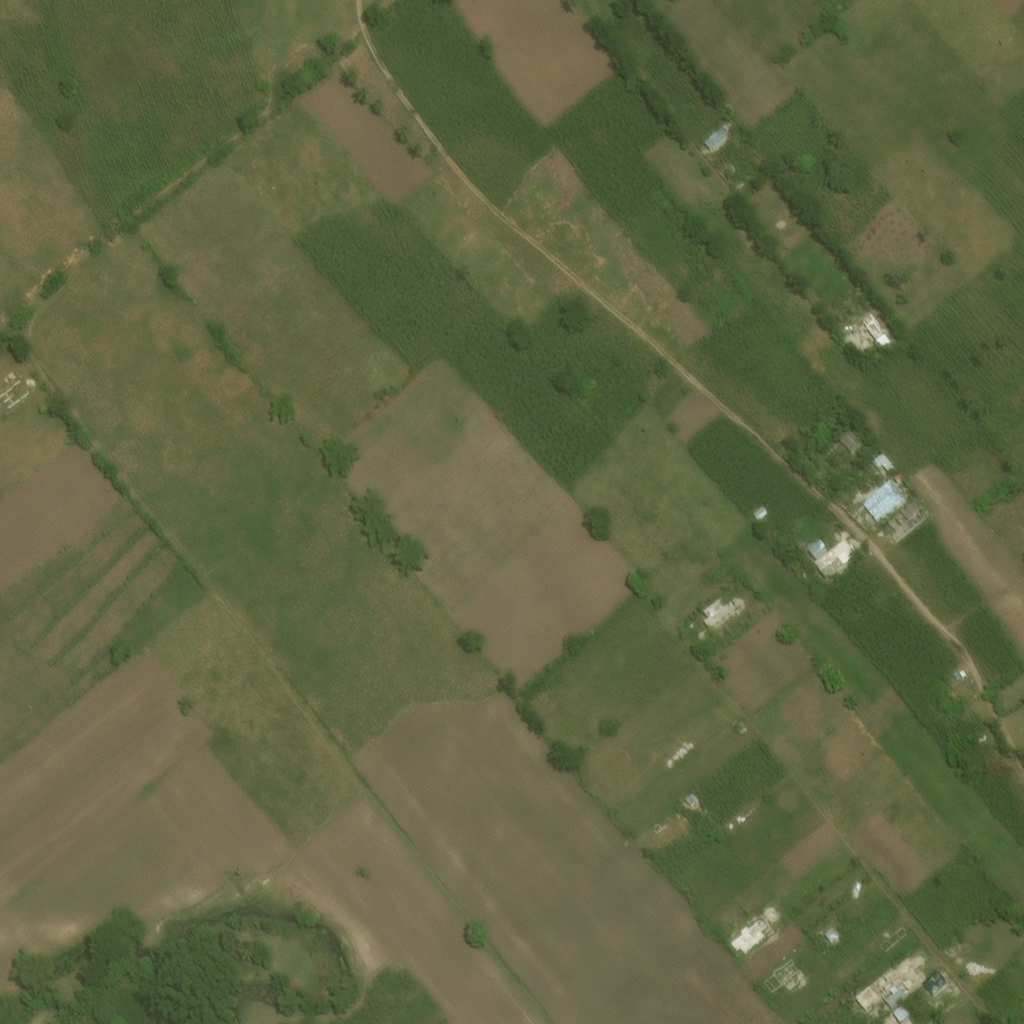major_damage: (901, 502, 925, 525)
minor_damage: (858, 481, 909, 536), (822, 561, 848, 588), (810, 549, 824, 562), (797, 542, 808, 553), (821, 562, 830, 570)
no_damage: (874, 454, 898, 480), (842, 434, 864, 459), (959, 670, 968, 680), (969, 676, 977, 686), (953, 671, 960, 679)
unclassified: (726, 168, 738, 183)
